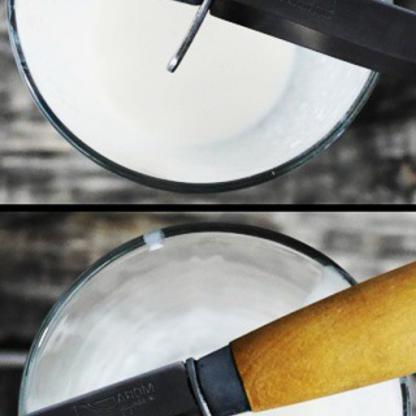knife: (0, 220, 415, 416)
